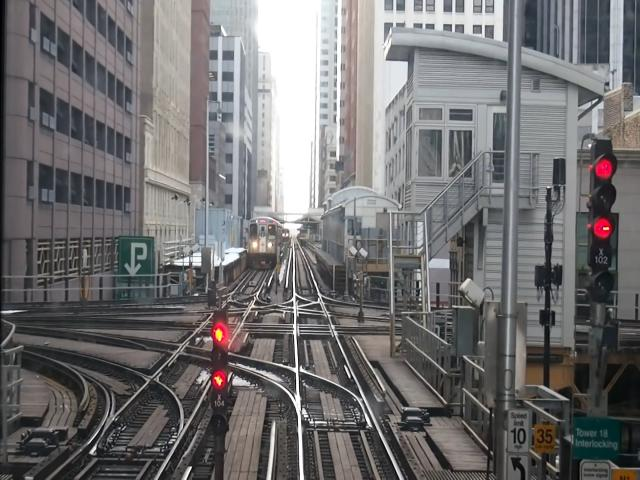signal light: (586, 132, 620, 306), (211, 310, 231, 440)
